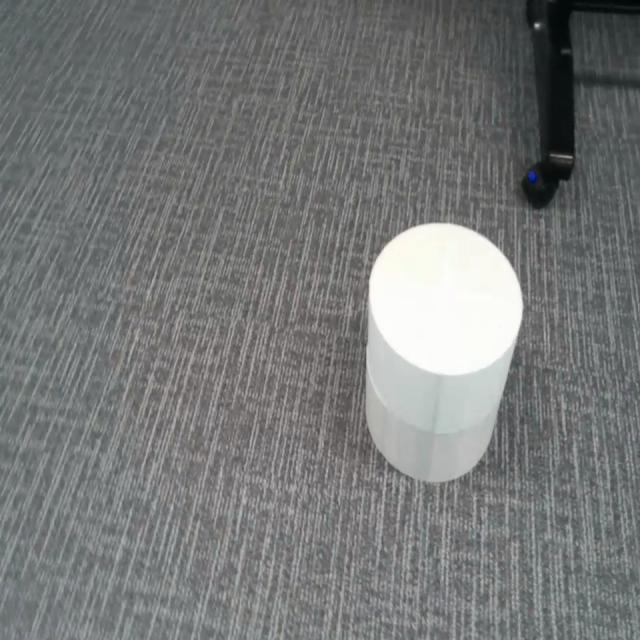cylinder: (362, 218, 524, 482)
